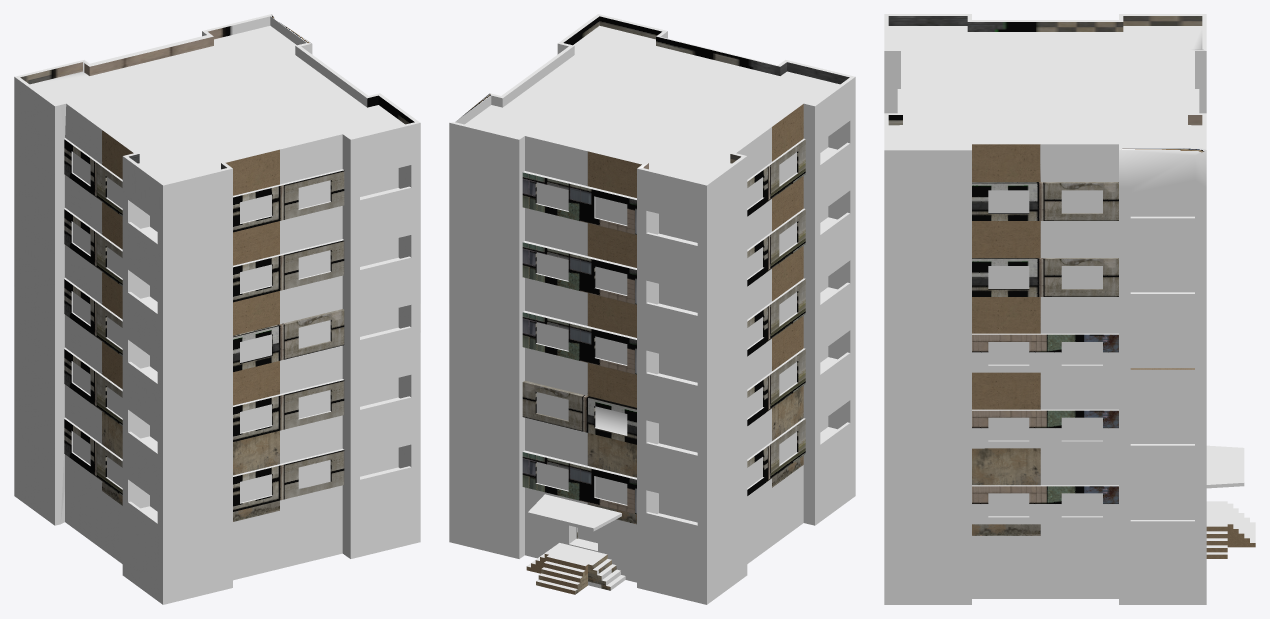
The model's file is tower_block.obj.
The picture shows the model from 3 angles, left to right: view 1: azimuth 30°, elevation 25°; view 2: azimuth 150°, elevation 25°; view 3: azimuth 270°, elevation 25°; orthographic projection. The views are drawn at different scales.
Parts seen in each view (by area): view 1: Box01; view 2: Box01; view 3: Box01.
Part boxes in pixels (<box>): Box01: <box>14,14,420,604</box>; Box01: <box>449,14,855,604</box>; Box01: <box>884,14,1255,604</box>.
Size of the model in its own units: 57.28 by 89.18 by 66.
